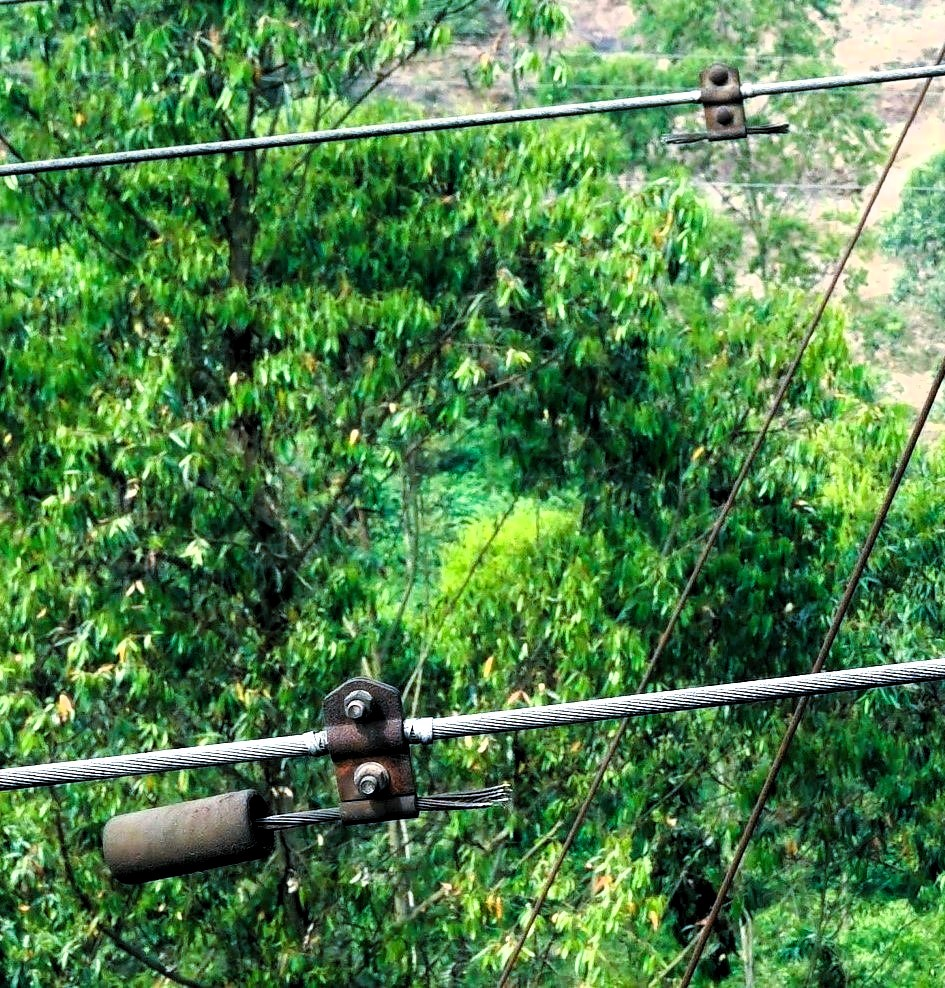Damage of shockproof hammer: (90, 663, 528, 897), (648, 43, 805, 166)
